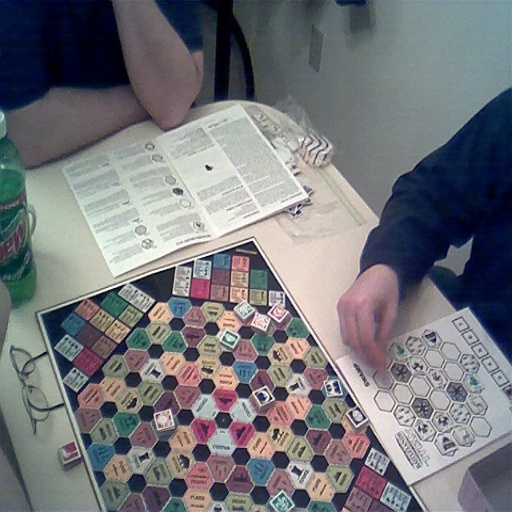hand: (337, 249, 415, 384)
